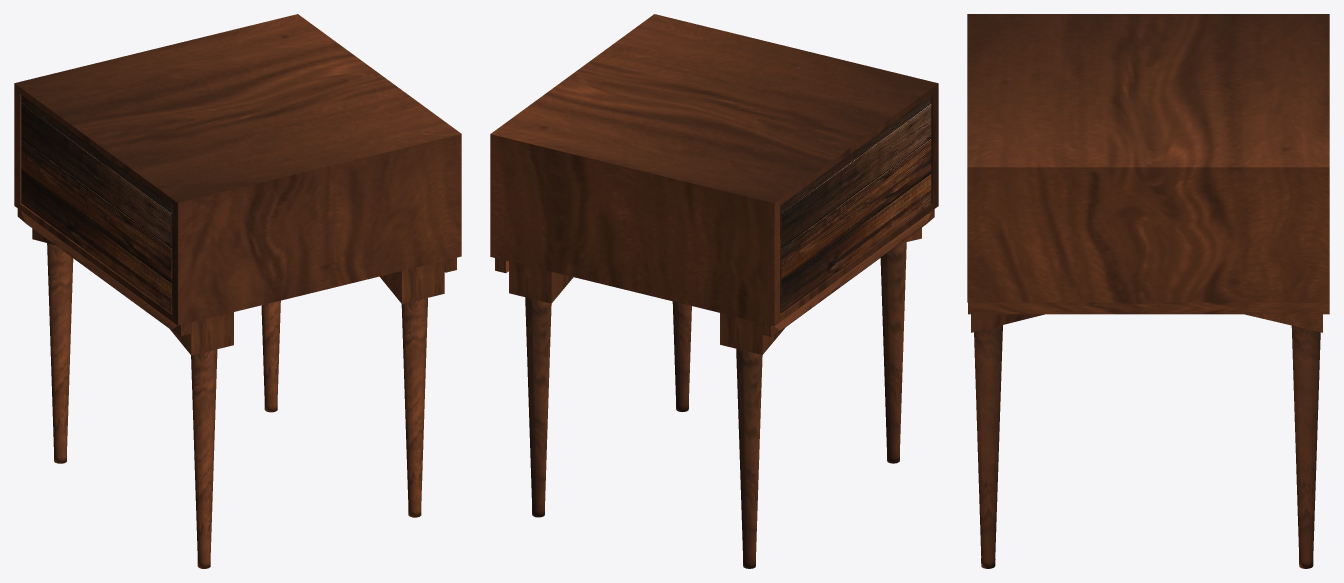
The model's file is Small Table .fbx.
3 views of the same model, side by side, from view 1: azimuth 30°, elevation 25°; view 2: azimuth 150°, elevation 25°; view 3: azimuth 270°, elevation 25° (orthographic). The views are drawn at different scales.
Parts seen in each view (by area): view 1: Cube, Cube.007, Cylinder.001, Cylinder.003, Cylinder, Cube.005, Cylinder.002, Cube.002, Cube.003; view 2: Cube, Cube.007, Cylinder.002, Cylinder, Cylinder.001, Cylinder.003, Cube.004, Cube.002, Cube.001; view 3: Cube, Cylinder.003, Cylinder.002, Cube.006, Cube.004, Cube.005.
Boxes of the visible parts, x1,y1,x2,y2 form: Cube: (14, 14, 461, 325); Cube.007: (21, 95, 172, 312); Cylinder.001: (191, 349, 217, 568); Cylinder.003: (401, 298, 427, 517); Cylinder: (47, 243, 73, 463); Cube.005: (379, 260, 444, 303); Cylinder.002: (261, 300, 280, 412); Cube.002: (17, 208, 190, 335); Cube.003: (170, 312, 233, 355); Cube: (490, 14, 938, 325); Cube.007: (780, 95, 931, 313); Cylinder.002: (525, 297, 551, 517); Cylinder: (736, 349, 762, 568); Cylinder.001: (880, 242, 906, 463); Cylinder.003: (672, 301, 691, 411); Cube.004: (509, 261, 573, 303); Cube.002: (761, 209, 934, 336); Cube.001: (720, 313, 785, 354); Cube: (967, 14, 1329, 302); Cylinder.003: (974, 325, 1002, 568); Cylinder.002: (1291, 325, 1320, 568); Cube.006: (968, 302, 1329, 314); Cube.004: (1245, 314, 1322, 332); Cube.005: (971, 314, 1044, 332).
Bounding box in the file's own units: 200 × 255 × 200.
Materials: 2 (2 with a texture image).
